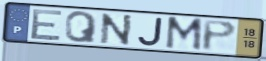E: (28, 8, 65, 42)
J: (136, 16, 165, 48)
M: (163, 16, 204, 53)
N: (99, 12, 134, 47)
P: (201, 19, 238, 53)
Q: (64, 10, 99, 44)
